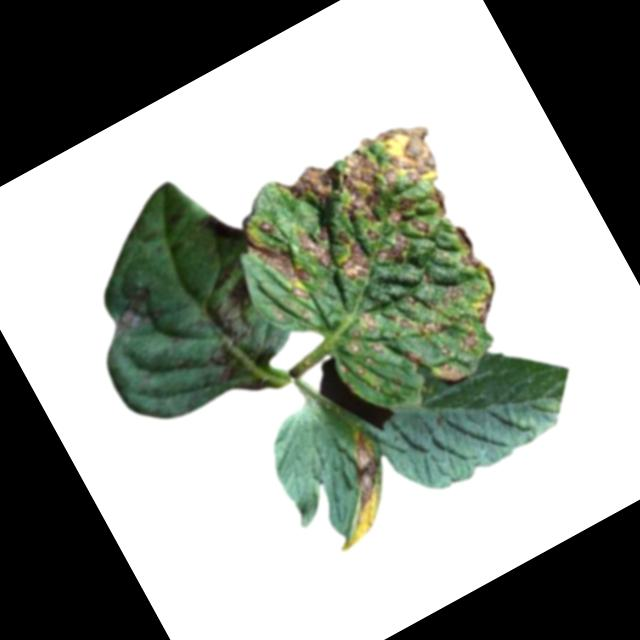Early_blight: (226, 102, 541, 439), (294, 426, 415, 555), (179, 273, 287, 390), (97, 272, 169, 344), (197, 205, 246, 255)
